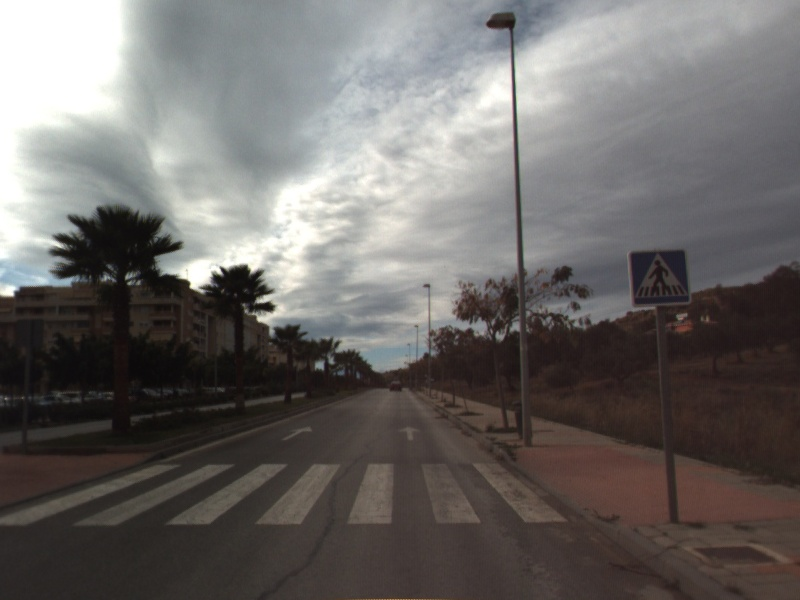STRAIGHT: (279, 423, 314, 442), (396, 423, 423, 442)
